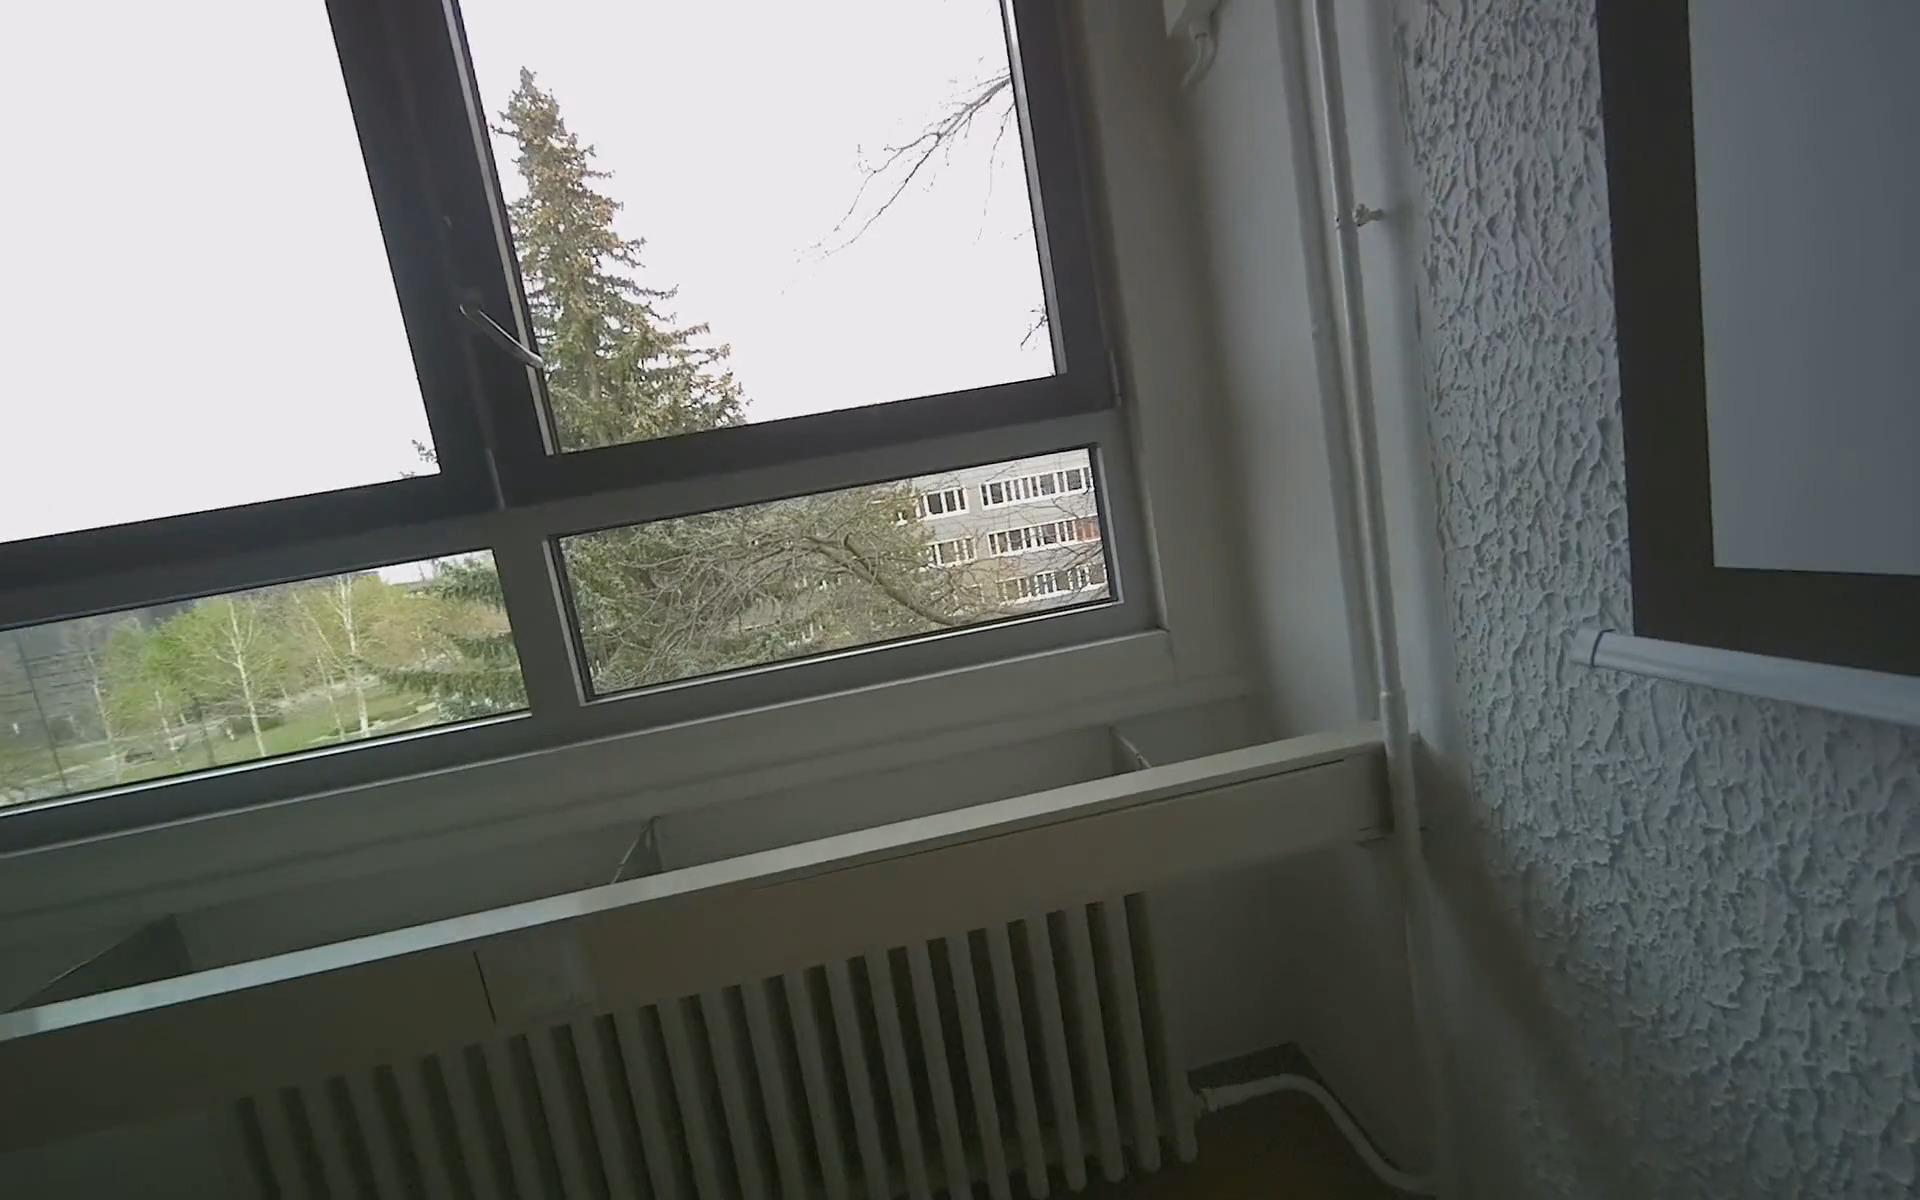radiator: (212, 840, 1205, 1199)
window: (0, 0, 1169, 859)
